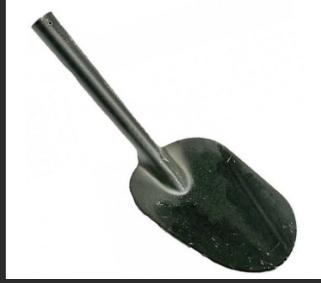PELLE: (0, 10, 307, 272)
